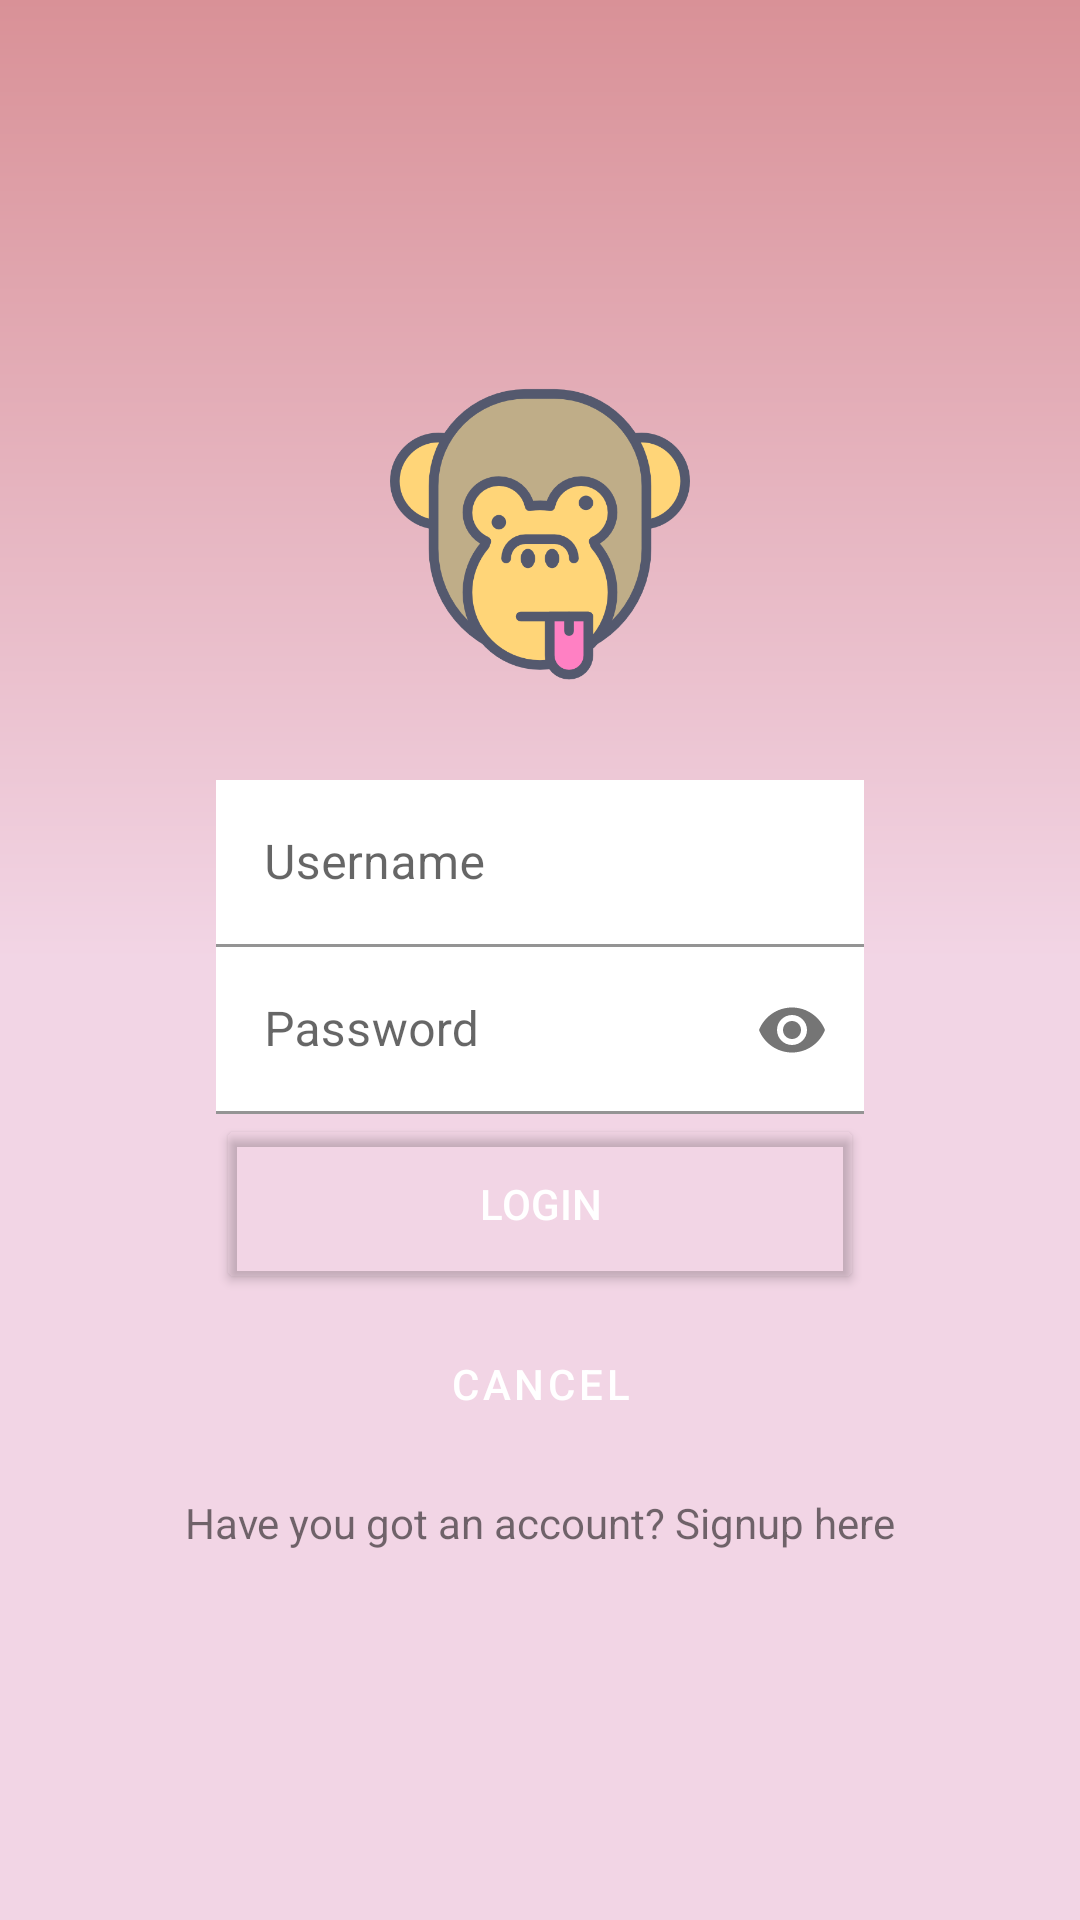

Named icons in this screenshot (1080*1920) and their bounding boxes, bbox=(x1, y1, x2, y2):
mono: bbox=(390, 384, 690, 680)
